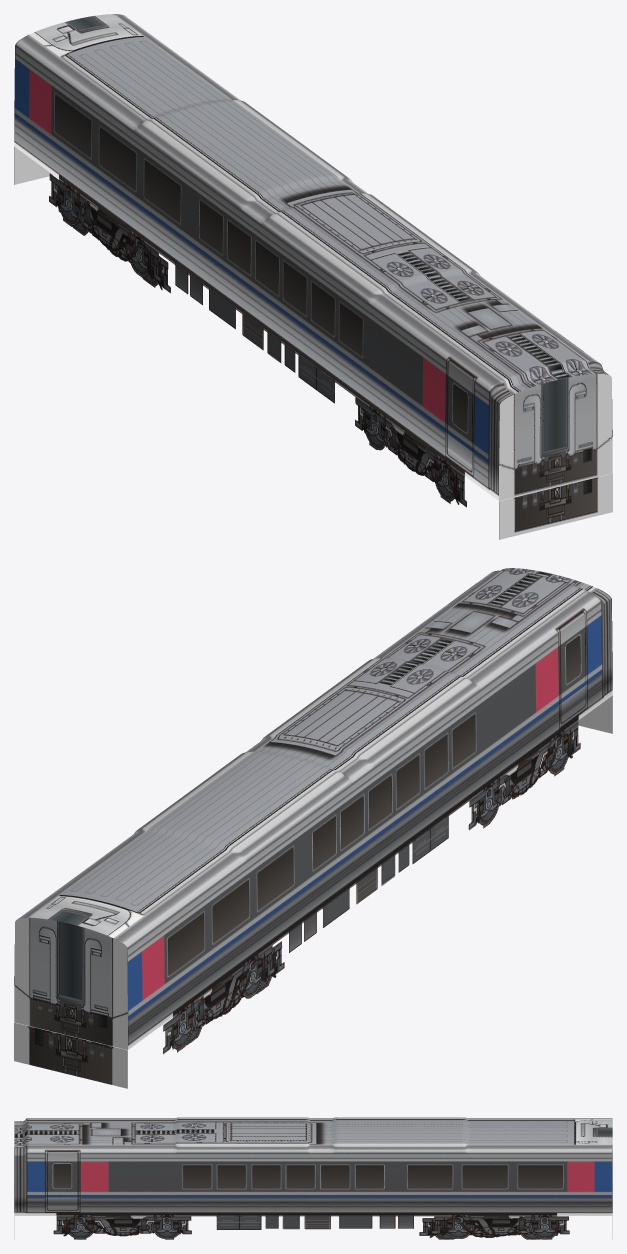
Rendered from car2.glb.
The picture shows the model from 3 angles, top to bottom: view 1: azimuth 30°, elevation 25°; view 2: azimuth 150°, elevation 25°; view 3: azimuth 270°, elevation 25°; orthographic projection. The views are drawn at different scales.
Parts seen in each view (by area): view 1: tizukyu-hot7000-car2; view 2: tizukyu-hot7000-car2; view 3: tizukyu-hot7000-car2.
Part boxes in pixels (x1,y1,x2,y2): tizukyu-hot7000-car2: [14, 14, 612, 539]; tizukyu-hot7000-car2: [14, 568, 612, 1088]; tizukyu-hot7000-car2: [14, 1117, 612, 1239].
Bounding box in the file's own units: 2.84 × 3.63 × 20.96.
Materials: 8 (7 with a texture image).
